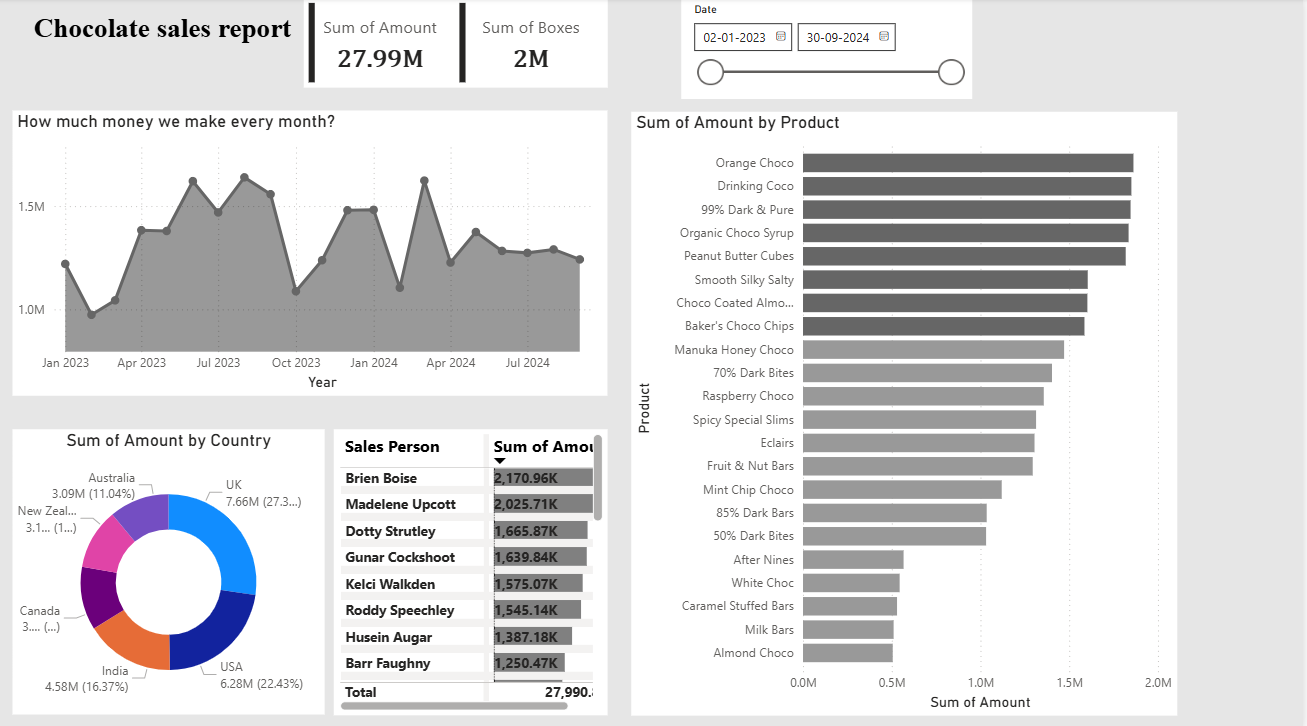

The page's visual inventory and layout, read from the dashboard file:
{"tool":"powerbi","page":{"name":"Page 2","canvas":[1280,720],"ordinal":1},"visuals":[{"type":"lineChart","title":"How much money we make every month?","fields":{"Category":["data.Date.Variation.Date Hierarchy.Year","data.Date.Variation.Date Hierarchy.Quarter","data.Date.Variation.Date Hierarchy.Month","data.Date.Variation.Date Hierarchy.Day"],"Y":["data.Amount"]},"box":[12.3,110.4,584.1,279.8],"z":0},{"type":"donutChart","fields":{"Category":["data.Country"],"Y":["data.Amount"]},"box":[12.3,423.3,306.8,279.8],"z":1000},{"type":"tableEx","fields":{"Values":["data.Sales Person","data.Amount"]},"box":[335,423.3,261.4,281],"z":2000},{"type":"clusteredBarChart","fields":{"Category":["data.Product"],"Y":["data.Amount"]},"box":[619.6,111.7,536.2,592.6],"z":3000},{"type":"cardVisual","fields":{"Data":["data.Amount","data.Boxes"]},"box":[298.2,0,298.2,88.3],"z":4000},{"type":"slicer","fields":{"Values":["data.Date"]},"box":[668.7,0,285.9,98.2],"z":5000},{"type":"textbox","box":[0,9.8,319,88.3],"z":6000}]}

Visuals, with their boxes in screenshot pixels (x1, y1, x2, y2), scaled from the page's 1280x720 canvas onto the 1307x726 screenshot:
"How much money we make every month?" lineChart: x1=13 y1=111 x2=609 y2=393
donutChart - data.Country x data.Amount: x1=13 y1=427 x2=326 y2=709
tableEx - data.Sales Person x data.Amount: x1=342 y1=427 x2=609 y2=710
clusteredBarChart - data.Product x data.Amount: x1=633 y1=113 x2=1180 y2=710
cardVisual - data.Amount x data.Boxes: x1=304 y1=0 x2=609 y2=89
slicer - data.Date: x1=683 y1=0 x2=975 y2=99
textbox: x1=0 y1=10 x2=326 y2=99
